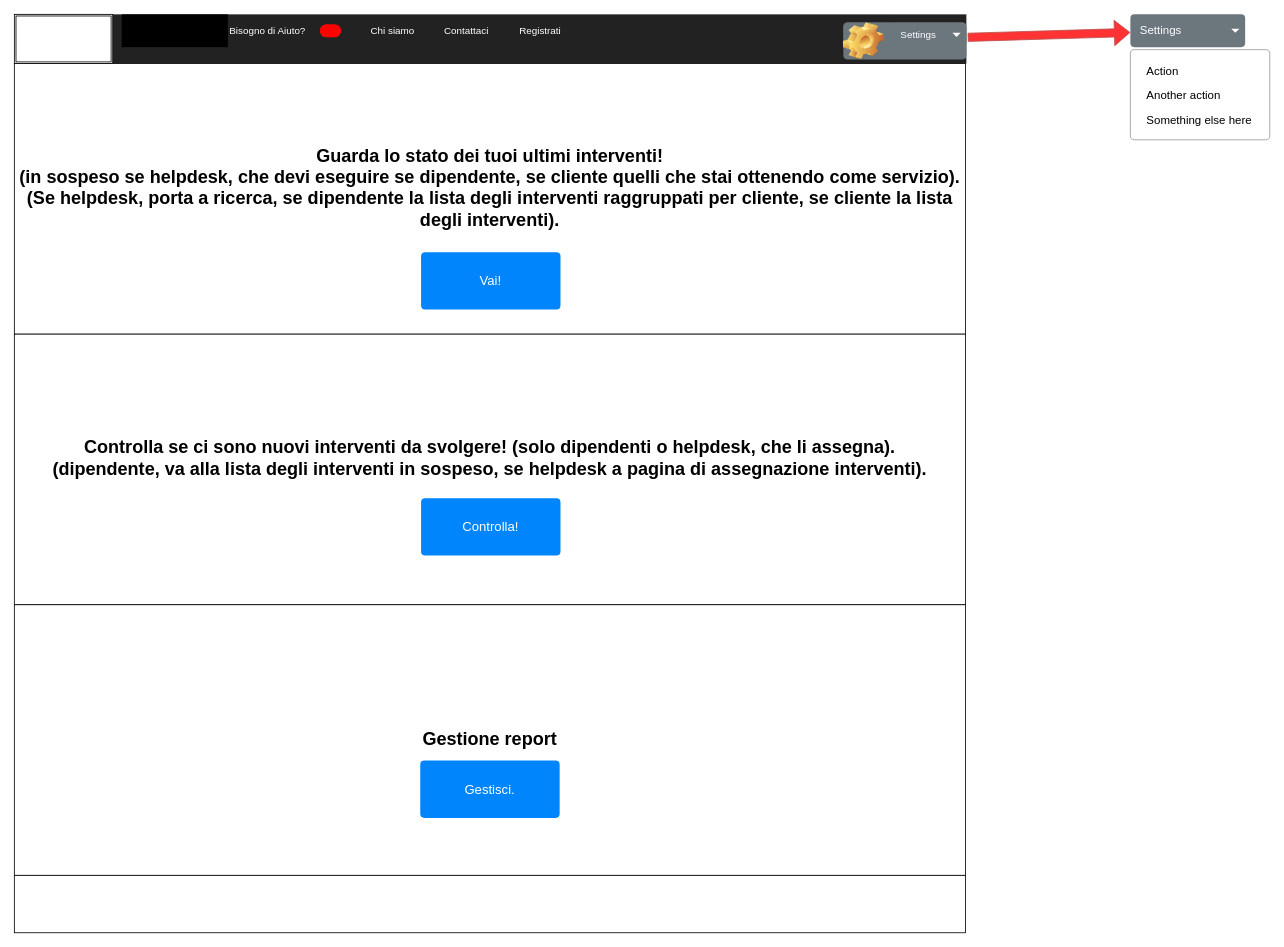
This 1284x947 diagram has some shape labels left out. The centre of each missing label's shape, as x and y in pixels:
"FOOTER" belongs at (490,904).
"HomePage" belongs at (174,30).
"LOGO" belongs at (63,39).
